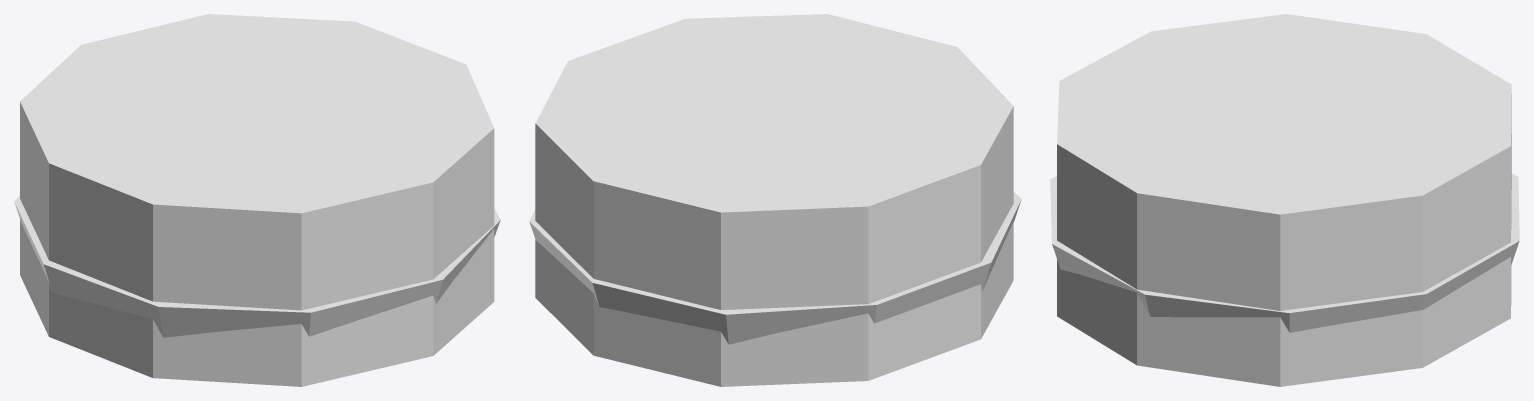
File: rellenos.fbx
The picture shows the model from 3 angles, left to right: view 1: azimuth 30°, elevation 25°; view 2: azimuth 150°, elevation 25°; view 3: azimuth 270°, elevation 25°; orthographic projection.
Parts seen in each view (by area): view 1: Relleno_alto_, Relleno_chico_; view 2: Relleno_alto_, Relleno_chico_; view 3: Relleno_alto_, Relleno_chico_.
Part boxes in pixels (left/top/right/bottom): Relleno_alto_: left=20, top=14, right=494, bottom=386; Relleno_chico_: left=14, top=195, right=500, bottom=337; Relleno_alto_: left=535, top=14, right=1013, bottom=386; Relleno_chico_: left=529, top=192, right=1021, bottom=344; Relleno_alto_: left=1057, top=14, right=1511, bottom=386; Relleno_chico_: left=1050, top=173, right=1519, bottom=332.
Size of the model in its own units: 320 by 125 by 307.
